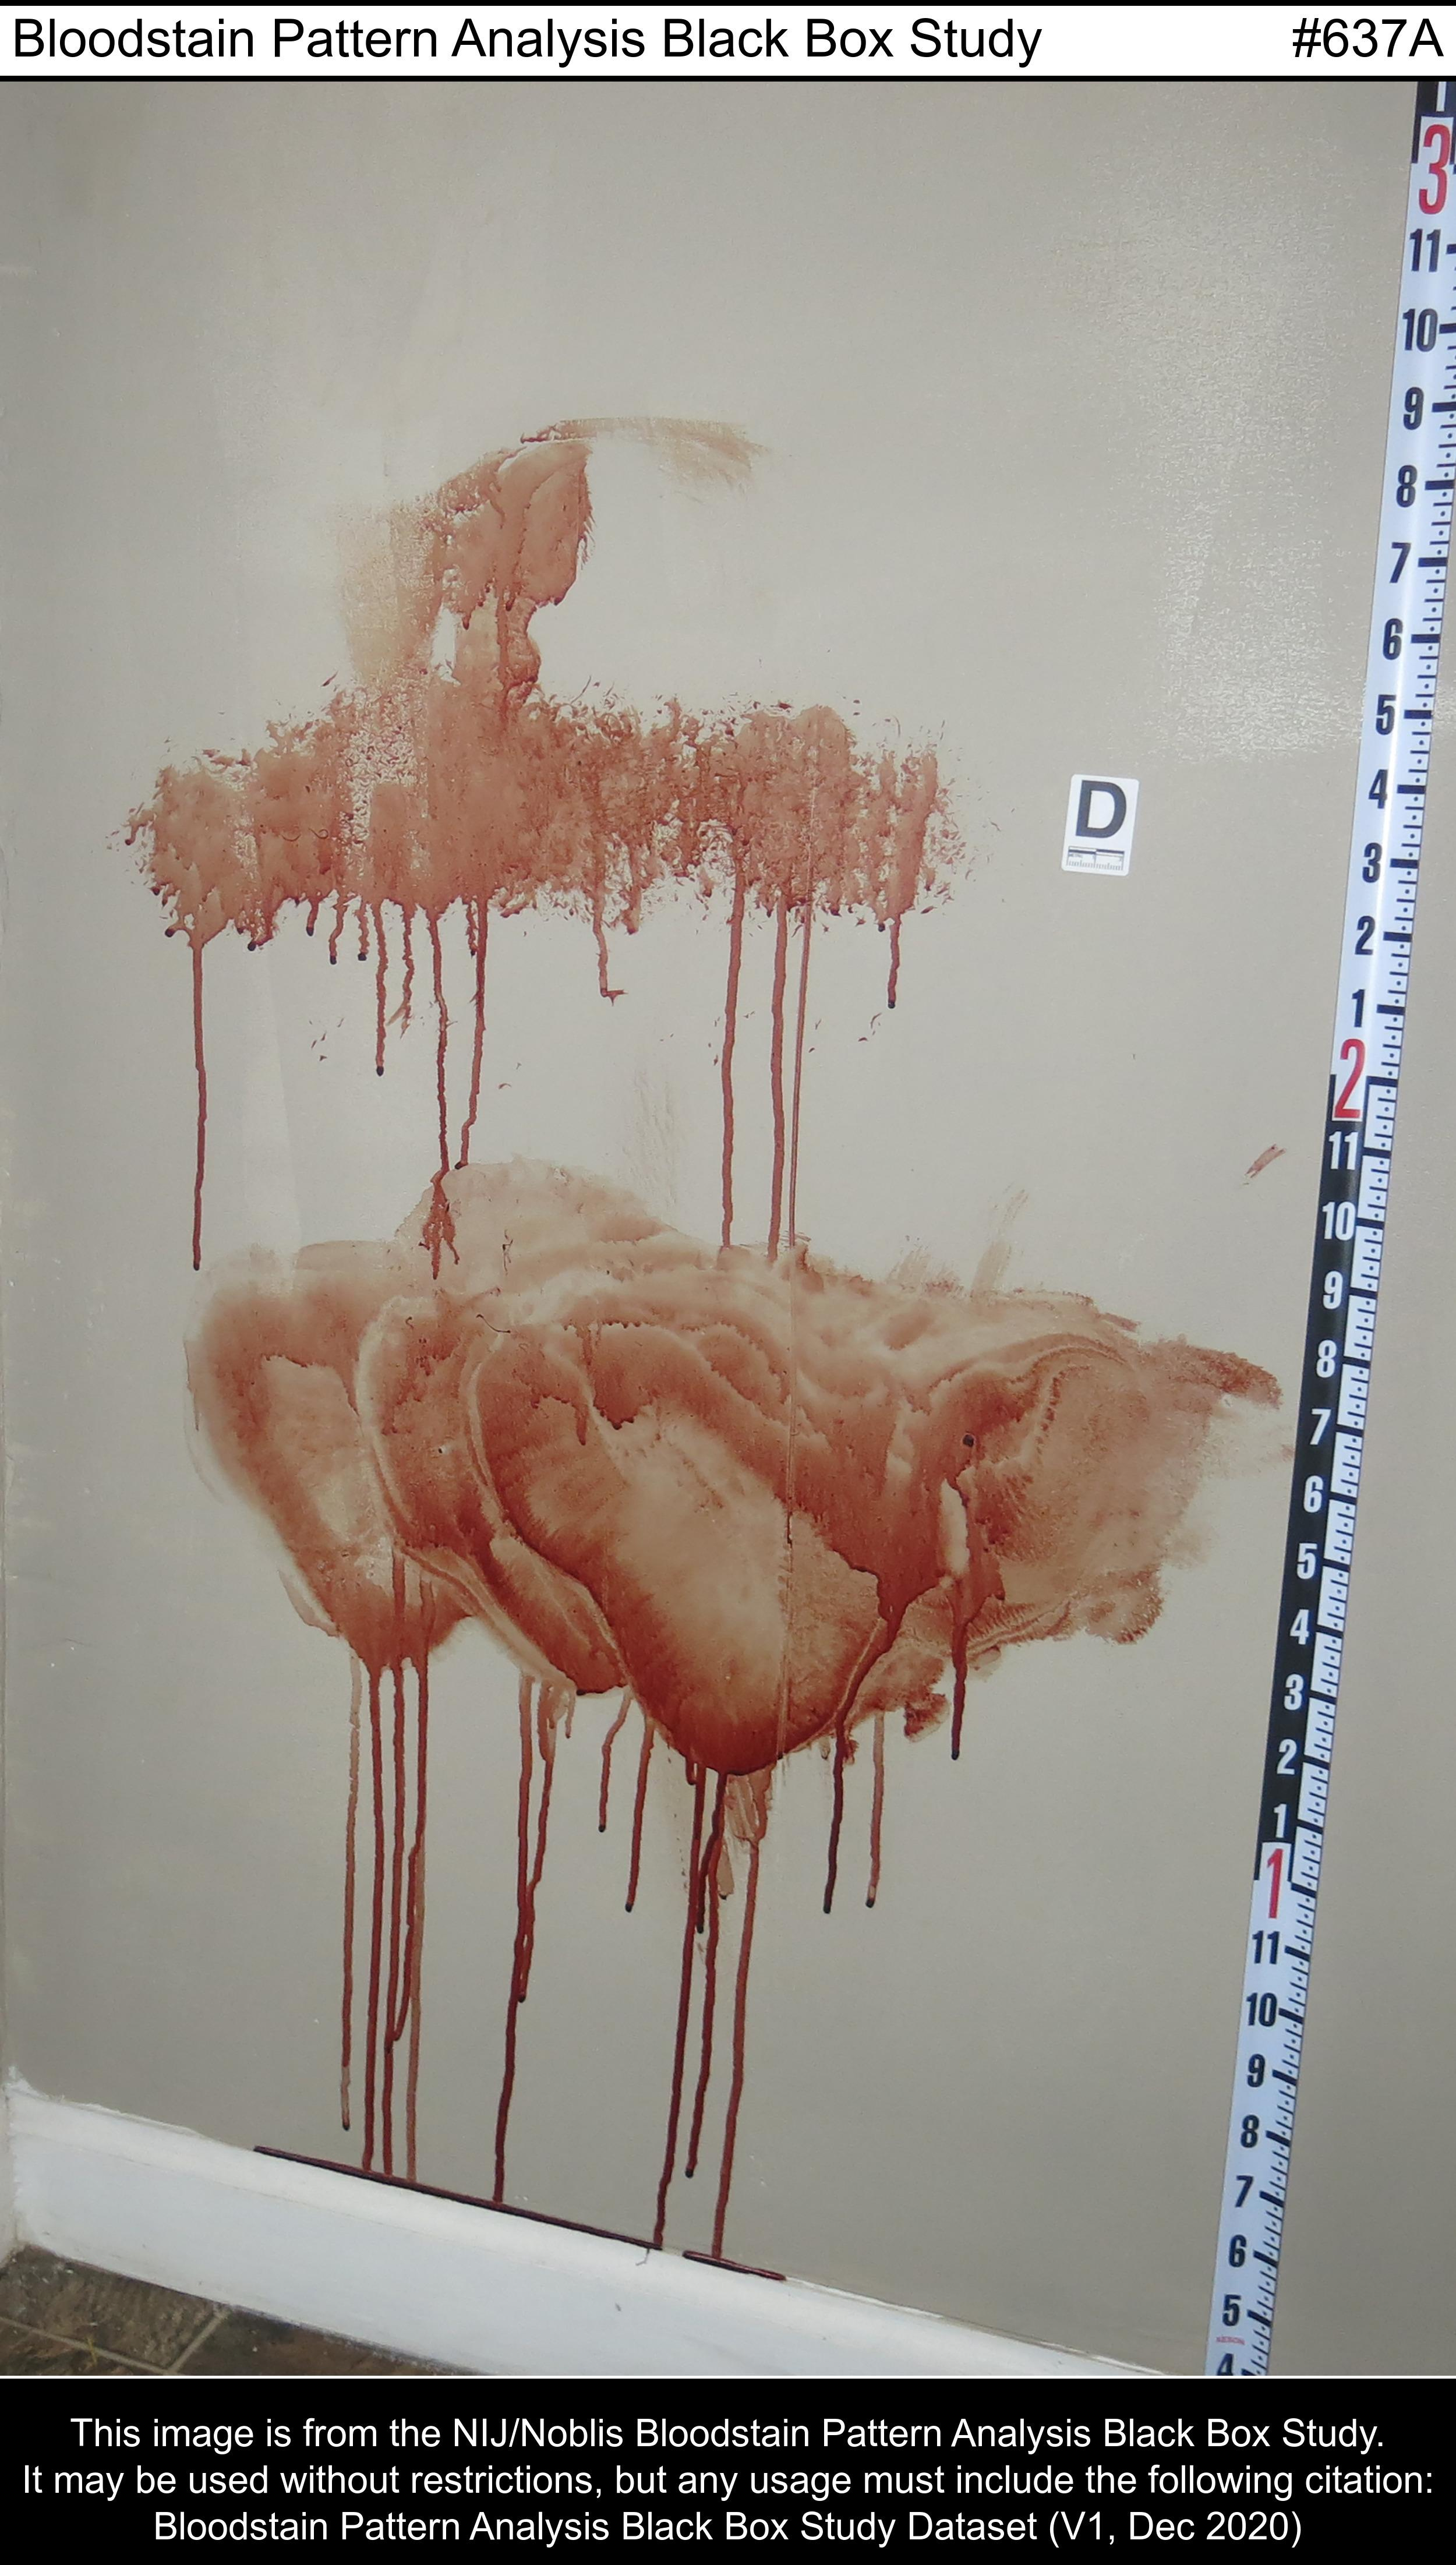Transfer: (32, 358, 958, 2341)
